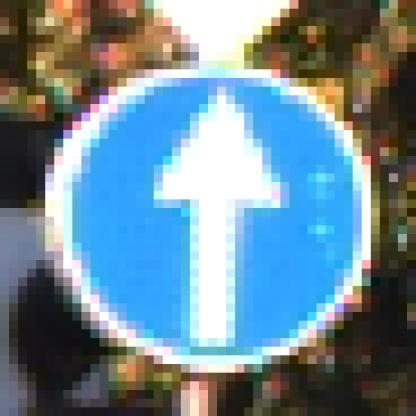AheadOnly: (46, 53, 372, 374)
